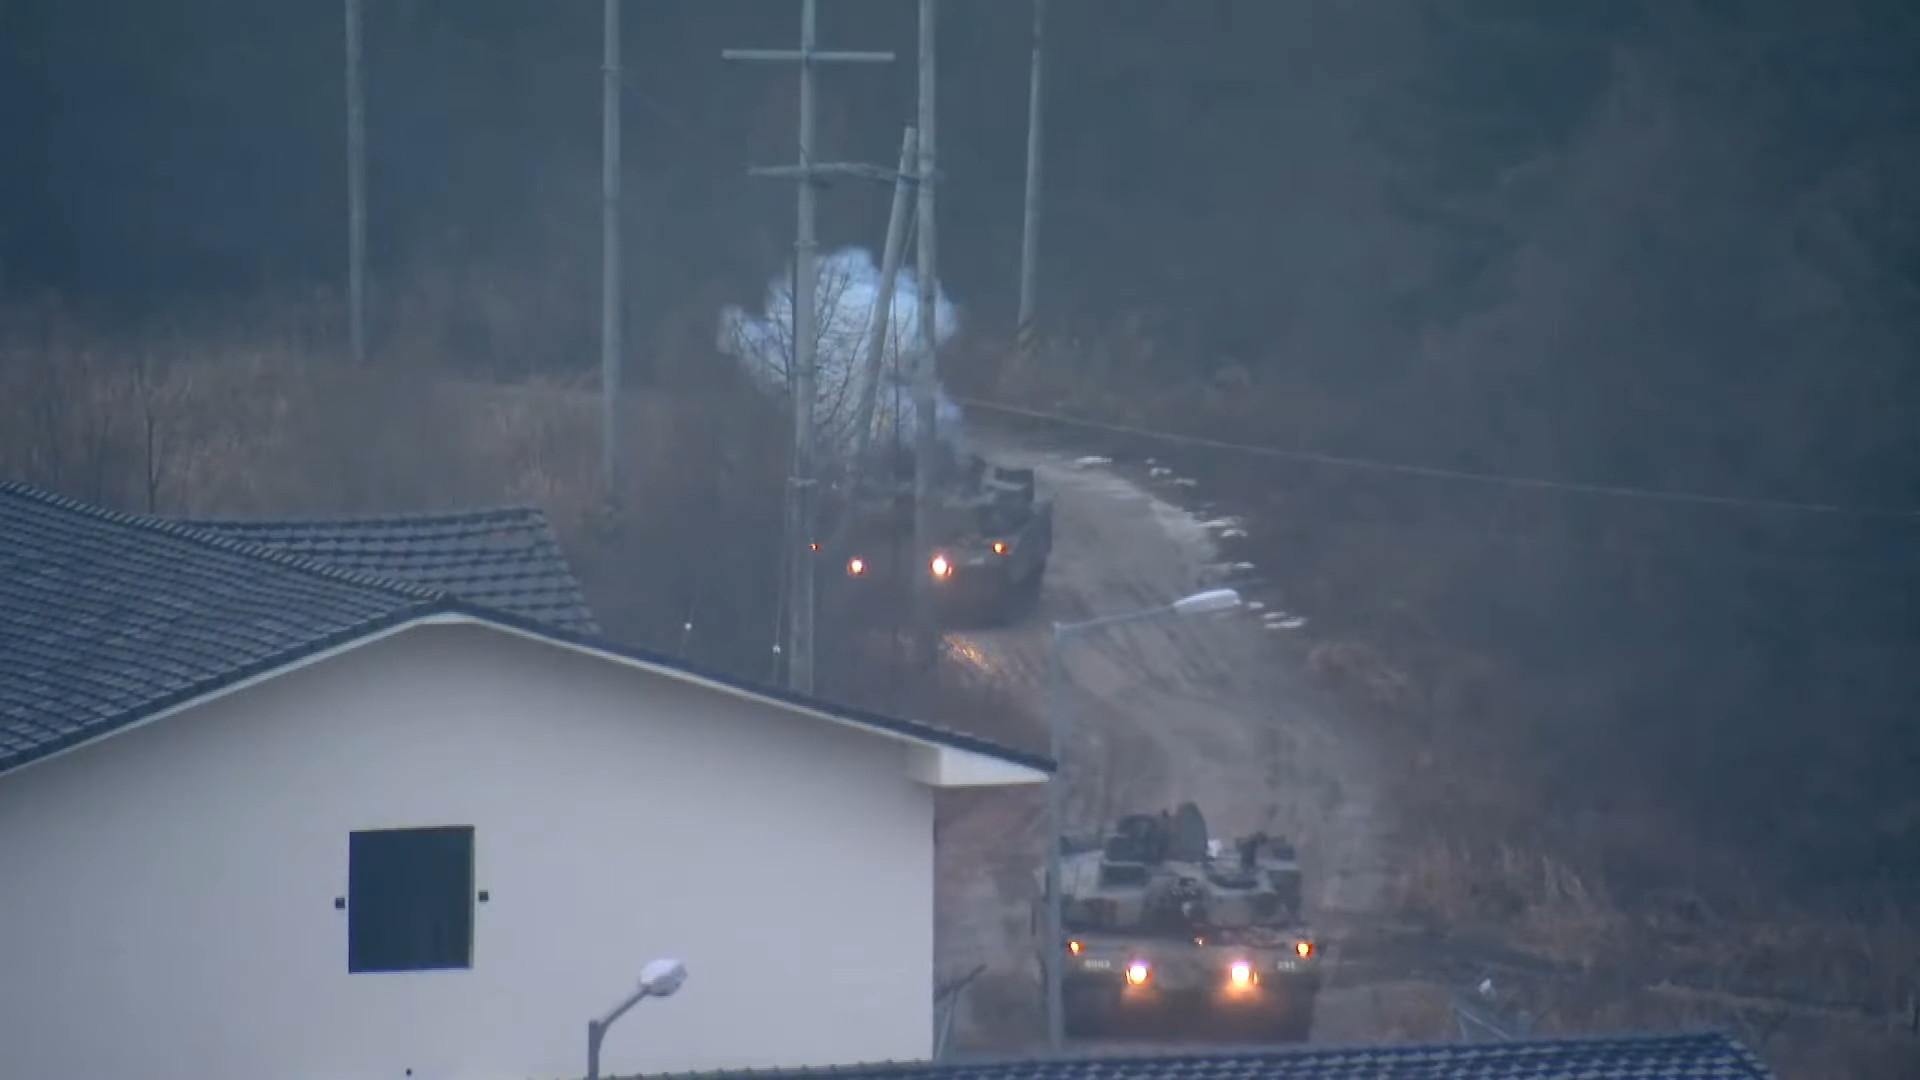tank: (1030, 808, 1321, 1036), (835, 444, 1055, 616)
